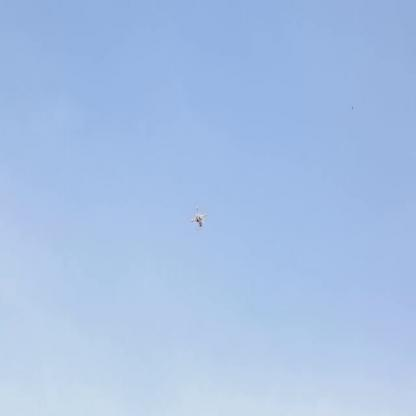drone: (191, 205, 210, 229)
